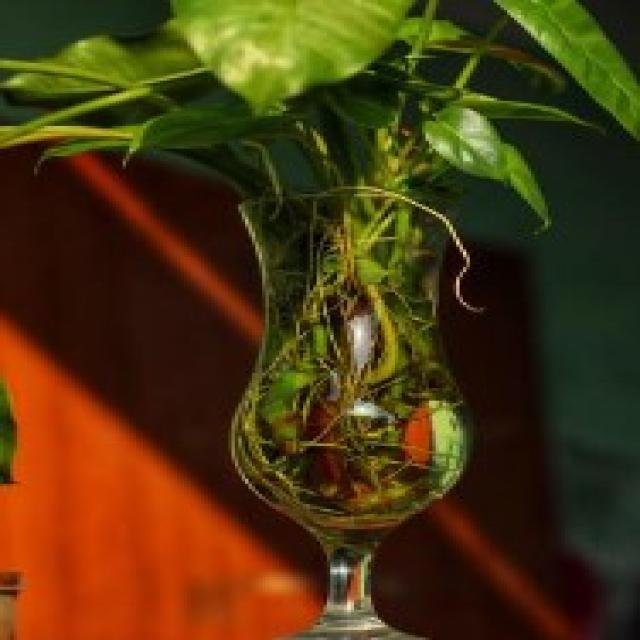electronic: (221, 191, 487, 640)
